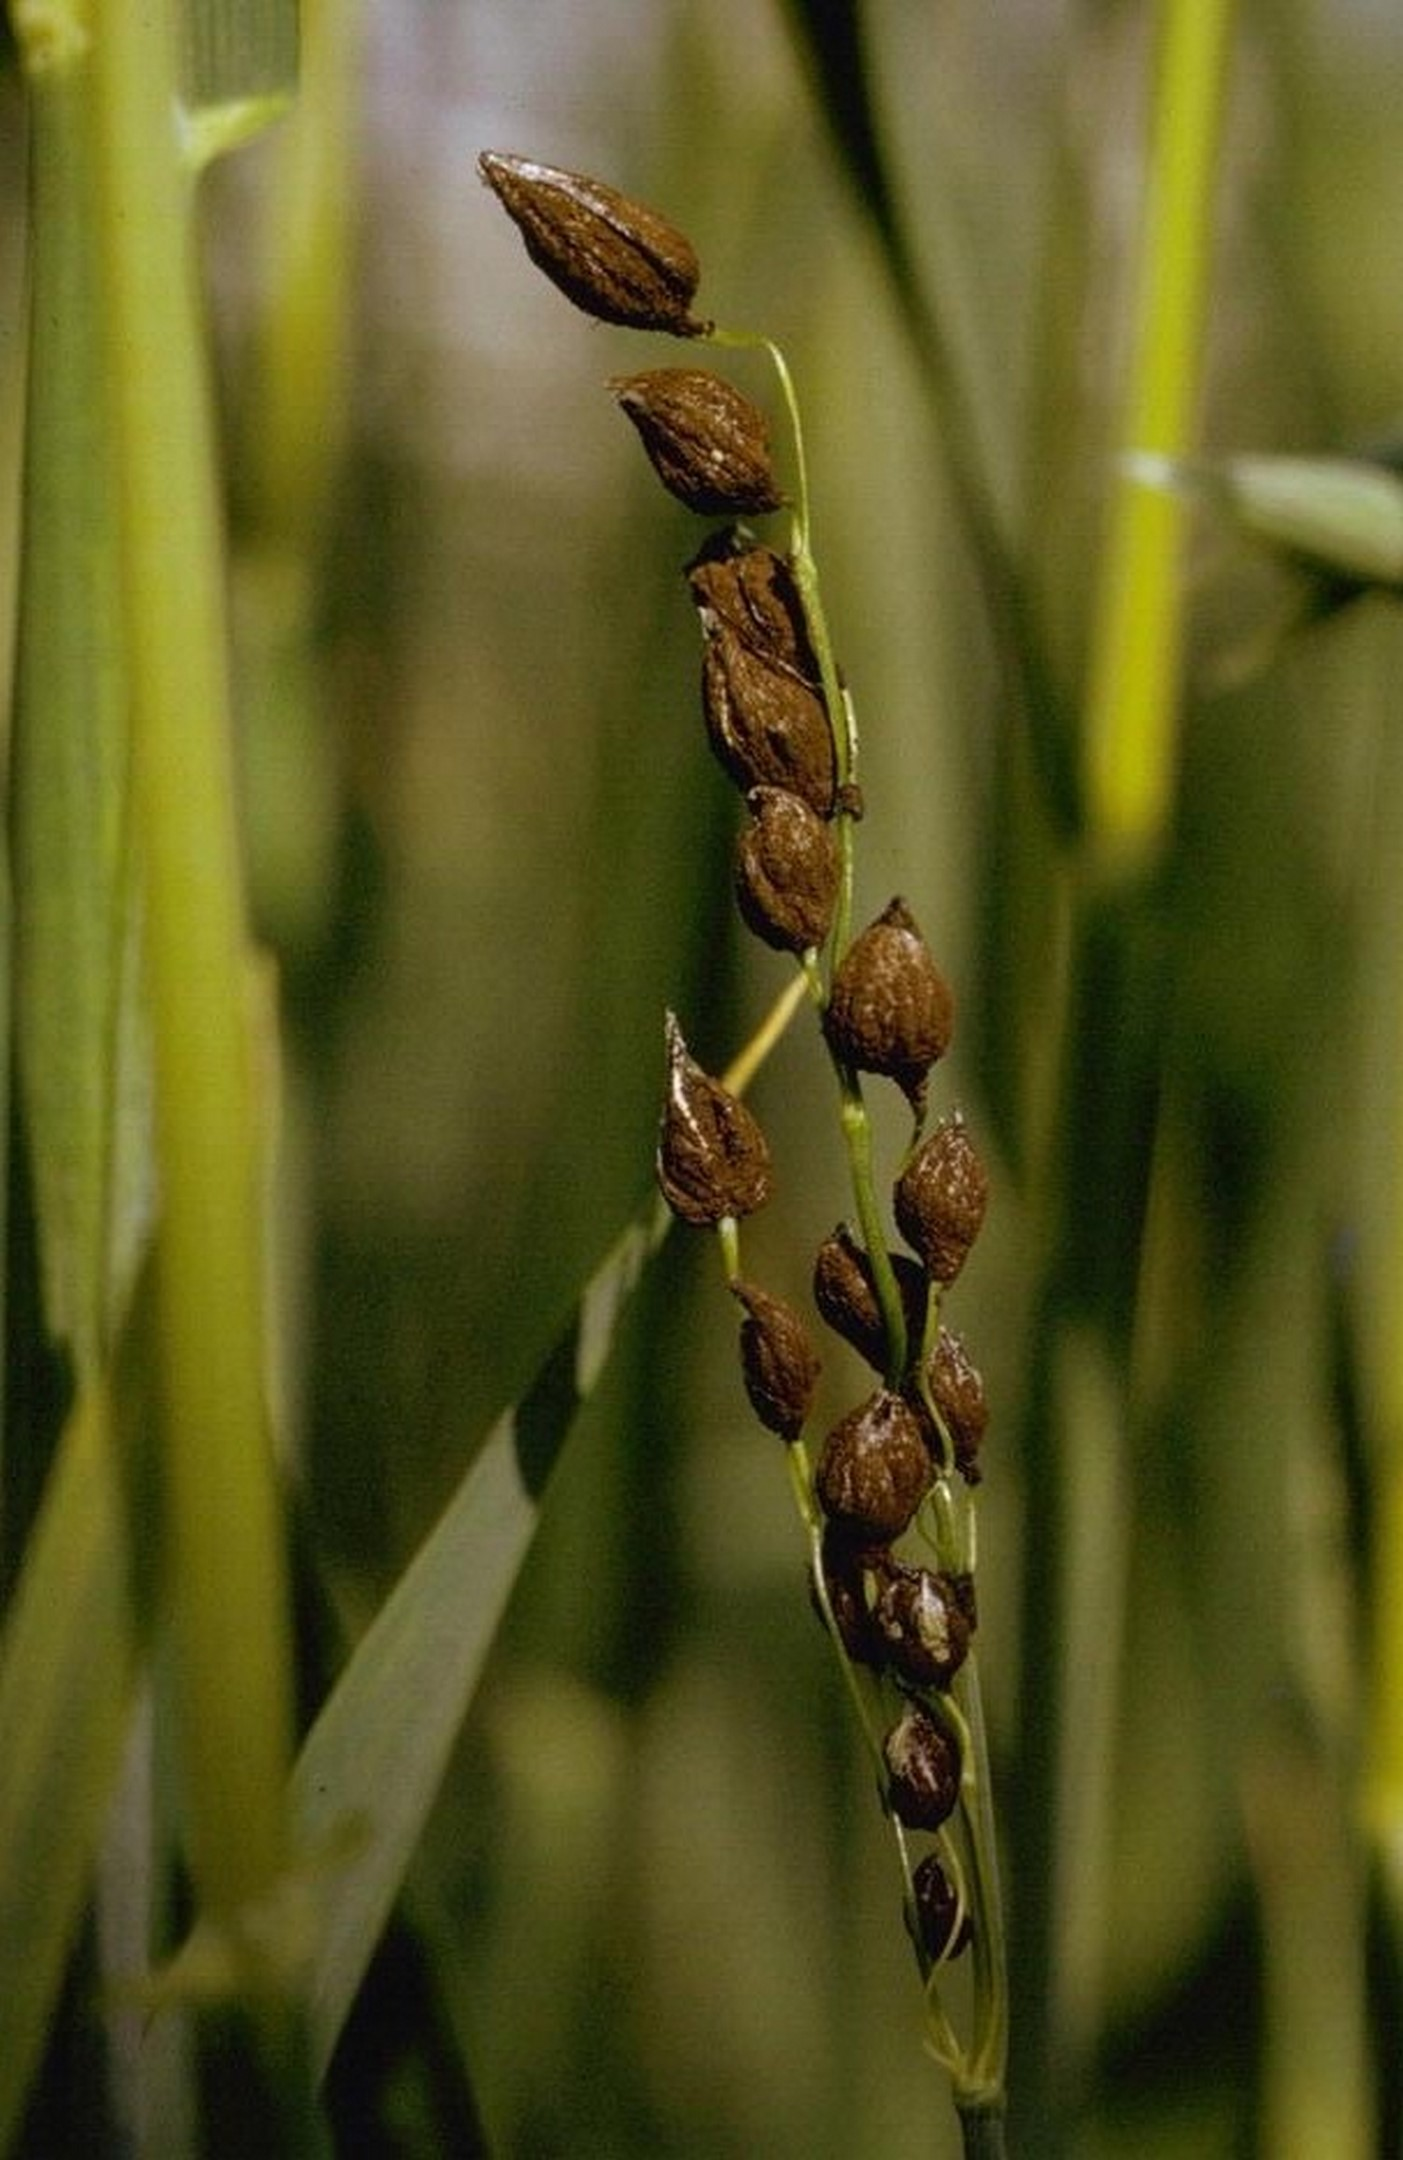Wheat Loose Smut: (453, 105, 1101, 1781)
